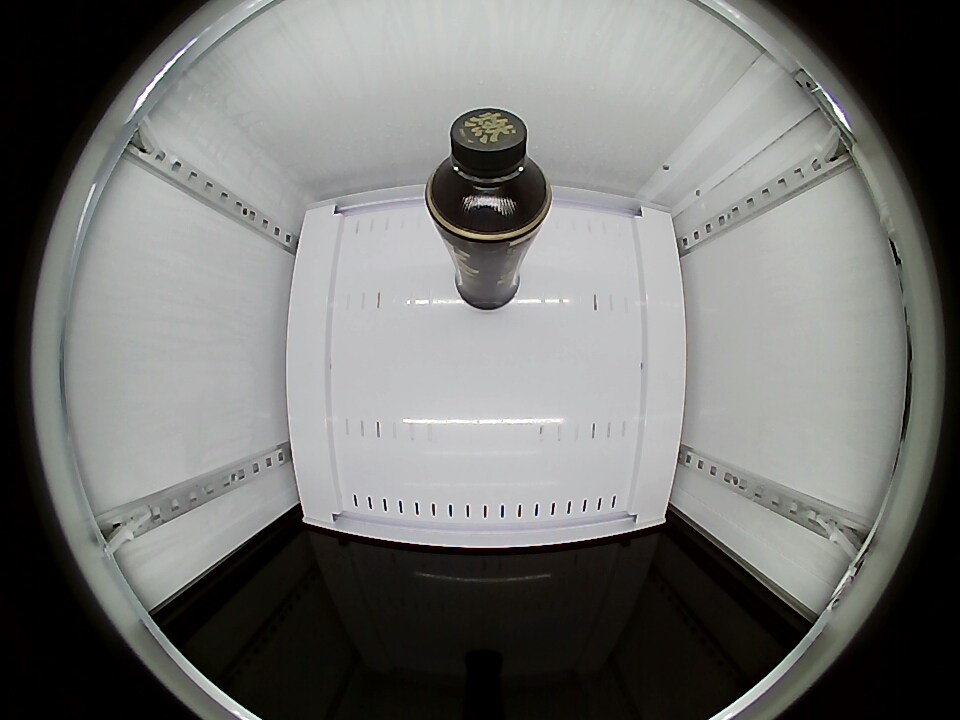rancha-1: (426, 108, 551, 240)
